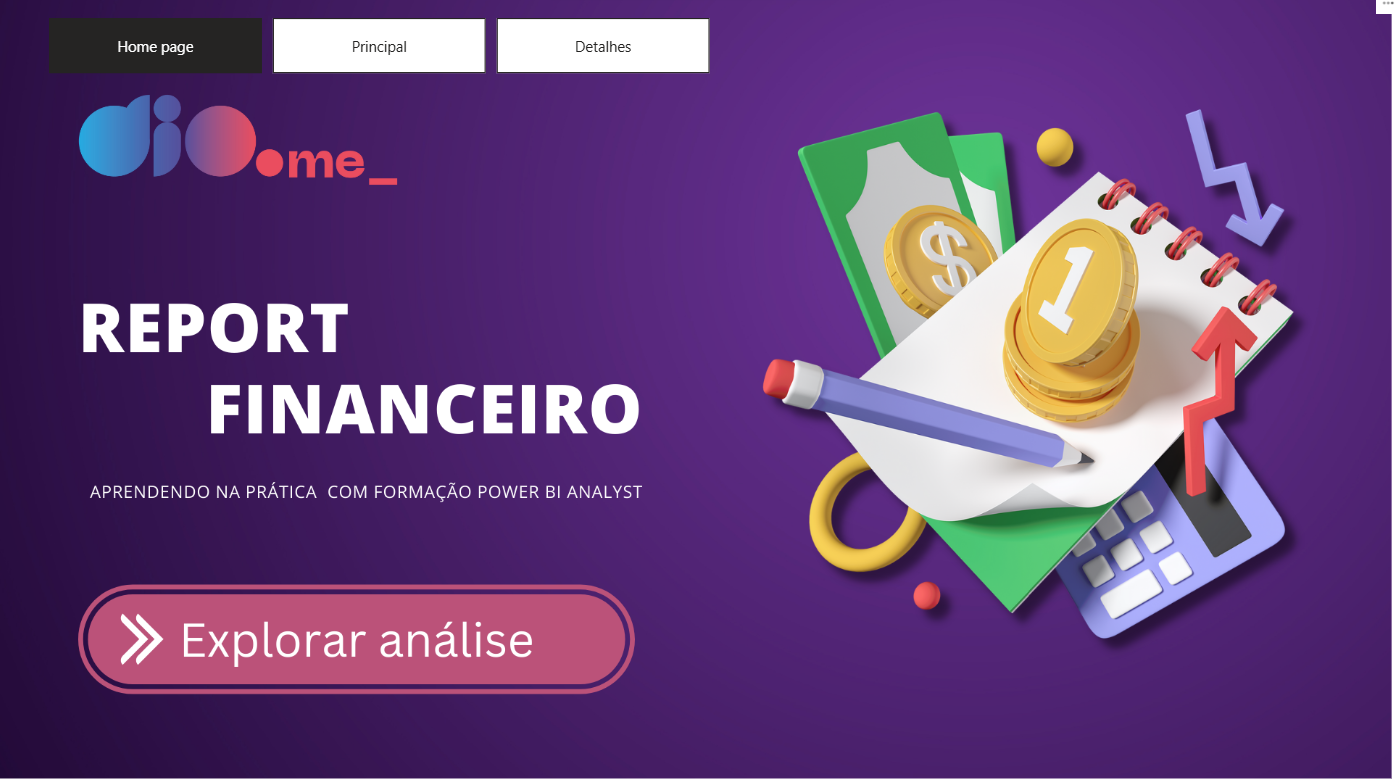

Layout of this report page (visuals, bound fields, positions):
{"tool":"powerbi","page":{"name":"Home page","canvas":[1280,720],"ordinal":0},"visuals":[{"type":"image","box":[0,0,1279.9,720],"z":0},{"type":"actionButton","box":[88,531.7,491.4,114.9],"z":1000},{"type":"pageNavigator","box":[53.5,25.4,600,50],"z":1001}]}

Visuals, with their boxes in screenshot pixels (x1, y1, x2, y2), scaled from the page's 1280x720 canvas onto the 1399x781 screenshot:
image: box(0, 0, 1398, 780)
actionButton: box(96, 577, 633, 701)
pageNavigator: box(58, 28, 714, 82)
